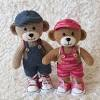teddy: (6, 7, 61, 93), (45, 16, 95, 96)
